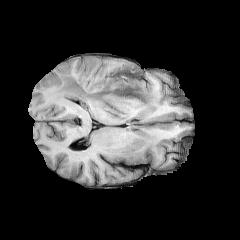glioma: (55, 65, 157, 119)
